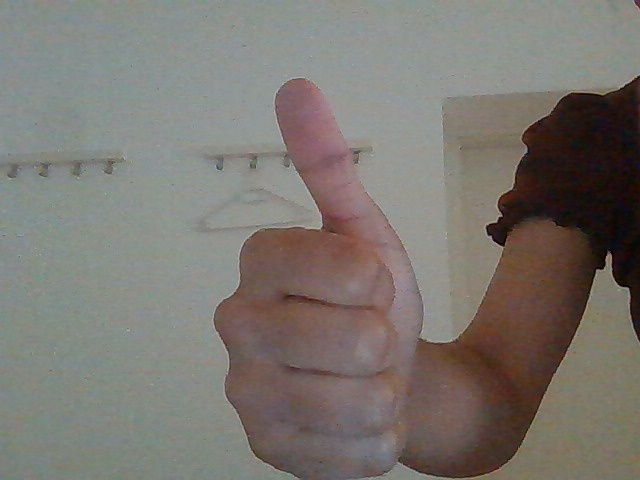thumbs_up: (187, 72, 438, 475)
